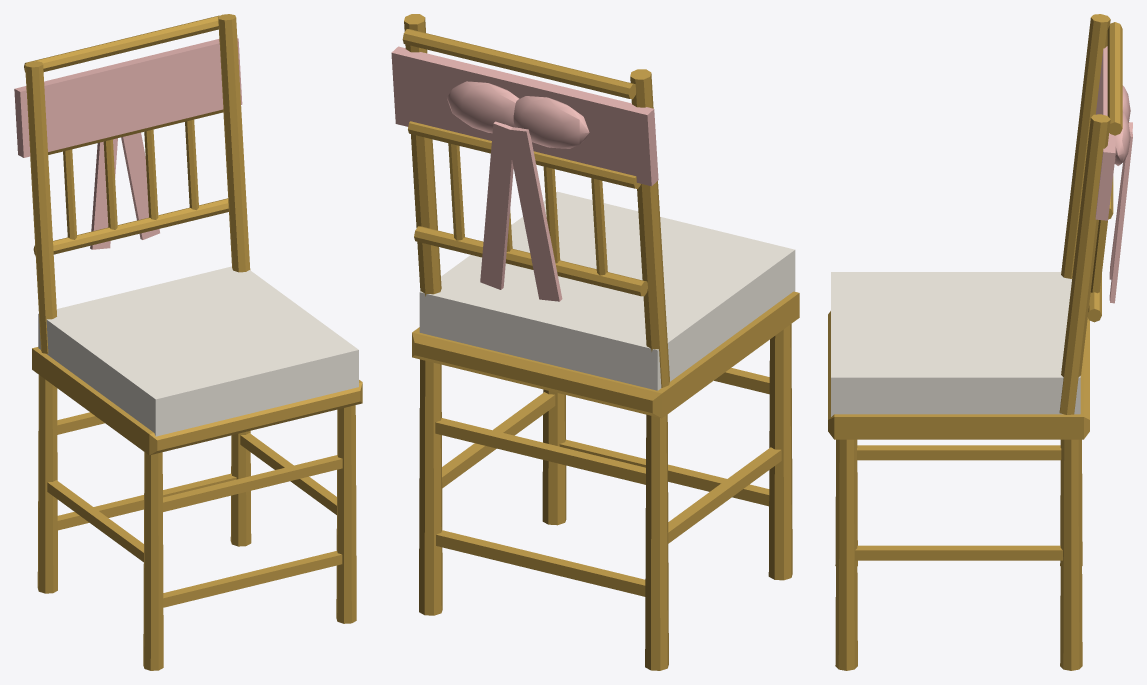
File: chair.glb
The picture shows the model from 3 angles, left to right: view 1: azimuth 30°, elevation 25°; view 2: azimuth 150°, elevation 25°; view 3: azimuth 270°, elevation 25°; orthographic projection. The views are drawn at different scales.
Parts seen in each view (by area): view 1: ivory11, sash21, gold10, gold12, gold13, gold0, gold1, gold2, gold5, gold4, gold16, gold14 (+12 smaller); view 2: ivory11, sash21, gold10, gold2, gold3, gold0, gold12, sash24, gold16, sash25, gold7, gold6 (+13 smaller); view 3: ivory11, gold10, gold13, gold3, gold1, gold12, gold9, gold8, gold16, sash21, sash25, gold20 (+1 smaller).
Part boxes in pixels (x1,y1,x2,y2): ivory11: (38, 266, 358, 436); sash21: (14, 38, 242, 157); gold10: (32, 347, 362, 455); gold12: (25, 61, 56, 353); gold13: (218, 14, 250, 272); gold0: (143, 427, 163, 670); gold1: (336, 405, 356, 623); gold2: (37, 349, 57, 593); gold5: (163, 455, 342, 511); gold4: (163, 551, 342, 607); gold16: (24, 15, 219, 72); gold14: (33, 198, 228, 255); ivory11: (419, 191, 795, 390); sash21: (391, 46, 658, 186); gold10: (412, 291, 799, 418); gold2: (645, 386, 668, 670); gold3: (419, 359, 442, 615); gold0: (768, 298, 792, 580); gold12: (630, 69, 669, 387); sash24: (506, 127, 562, 301); gold16: (402, 29, 635, 99); sash25: (480, 121, 513, 289); gold7: (435, 418, 645, 484); gold6: (436, 530, 645, 596); ivory11: (831, 272, 1080, 416); gold10: (828, 311, 1089, 439); gold13: (1059, 114, 1110, 414); gold3: (1060, 439, 1082, 670); gold1: (835, 439, 857, 670); gold12: (1061, 14, 1110, 278); gold9: (855, 545, 1062, 560); gold8: (857, 445, 1061, 460); gold16: (1107, 22, 1122, 135); sash21: (1095, 46, 1115, 220); sash25: (1109, 131, 1132, 303); gold20: (1090, 220, 1107, 293).
Bounding box in the file's own units: 0.43 × 0.9702 × 0.4887.
